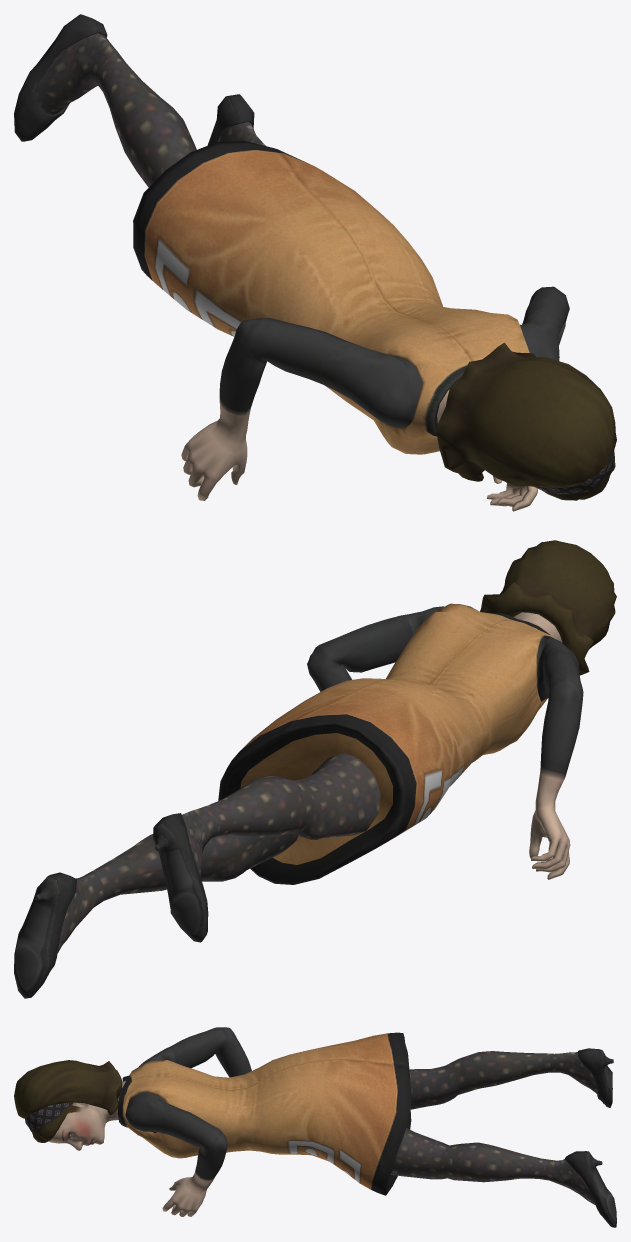
The model's file is dest_nt_nuked_female_02_d0_LOD0.obj.
3 renders of one model, top to bottom at view 1: azimuth 30°, elevation 25°; view 2: azimuth 150°, elevation 25°; view 3: azimuth 270°, elevation 25°, orthographic. The views are drawn at different scales.
Parts seen in each view (by area): view 1: mtl_nt_2020_manne_fem01_dress1, mtl_nt_2020_manne_fem01_head1, mtl_nt_2020_manne_fem01_hair1; view 2: mtl_nt_2020_manne_fem01_dress1, mtl_nt_2020_manne_fem01_head1, mtl_nt_2020_manne_fem01_hair1; view 3: mtl_nt_2020_manne_fem01_dress1, mtl_nt_2020_manne_fem01_head1, mtl_nt_2020_manne_fem01_hair1.
Boxes of the visible parts, <box> form: mtl_nt_2020_manne_fem01_dress1: <box>14,14,529,454</box>; mtl_nt_2020_manne_fem01_head1: <box>36,33,569,511</box>; mtl_nt_2020_manne_fem01_hair1: <box>437,342,616,500</box>; mtl_nt_2020_manne_fem01_dress1: <box>14,603,554,998</box>; mtl_nt_2020_manne_fem01_head1: <box>57,606,583,952</box>; mtl_nt_2020_manne_fem01_hair1: <box>480,540,616,675</box>; mtl_nt_2020_manne_fem01_dress1: <box>117,1032,616,1227</box>; mtl_nt_2020_manne_fem01_head1: <box>48,1027,598,1216</box>; mtl_nt_2020_manne_fem01_hair1: <box>14,1060,122,1142</box>.
Bounding box in the file's own units: 71.99 × 49.36 × 183.
